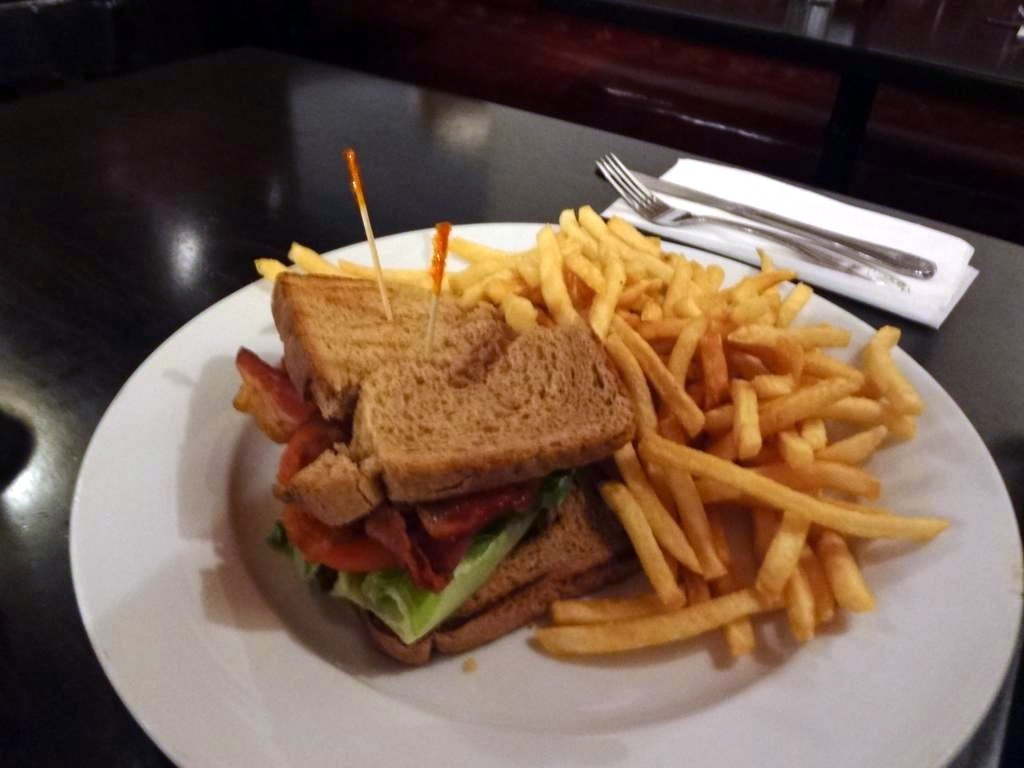French fries: (394, 204, 915, 647), (624, 437, 956, 548), (533, 586, 789, 659), (855, 322, 924, 413), (330, 259, 440, 295), (533, 225, 572, 326), (286, 236, 334, 276), (440, 232, 508, 256), (252, 252, 300, 277)
